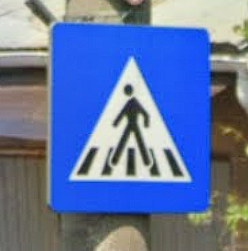trecere_pietoni: (47, 19, 214, 215)
